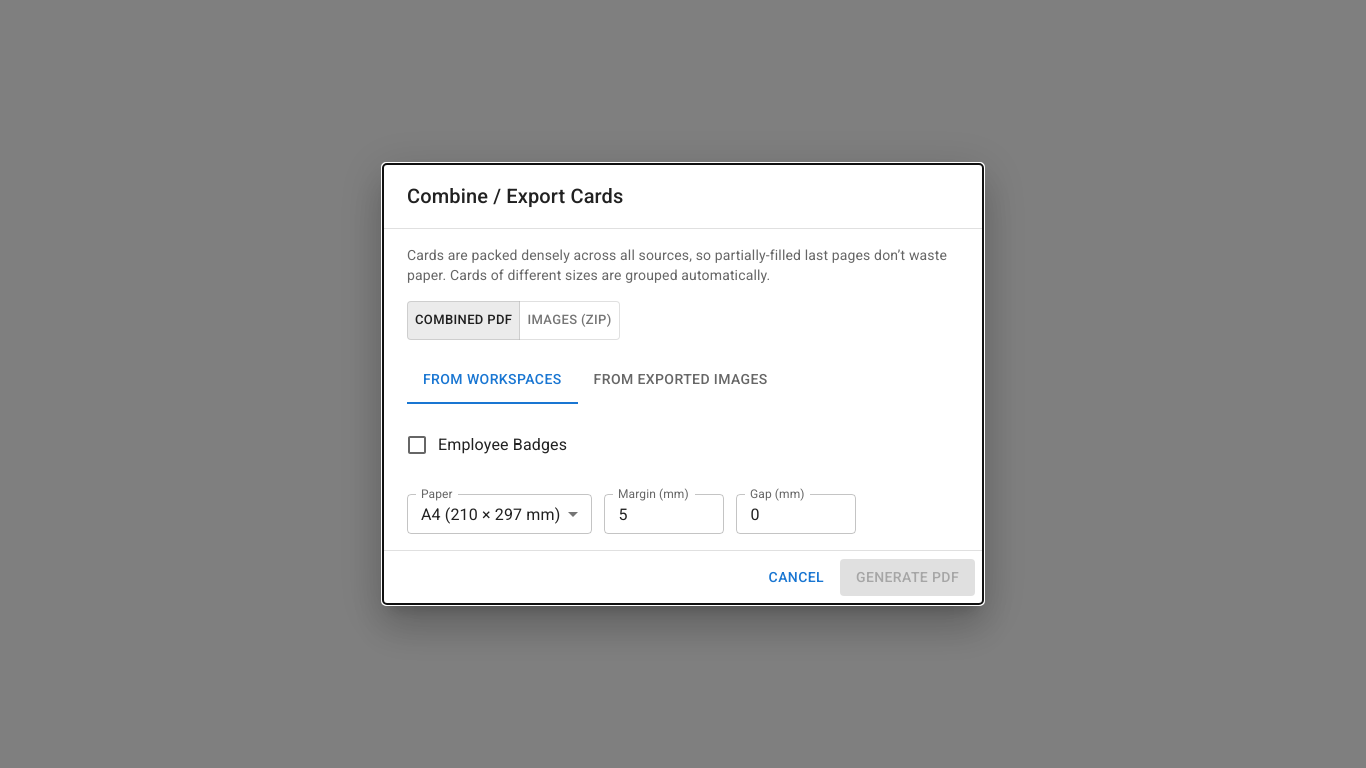
Test: CombinePdfDialog — workspaces tab › lists workspaces and enables Generate PDF once one is selected
Expected: the button "Generate PDF" is disabled, [840,559,975,596]
Click the checkbox labelled "Employee Badges" at (486, 445), box [405,433,567,457]
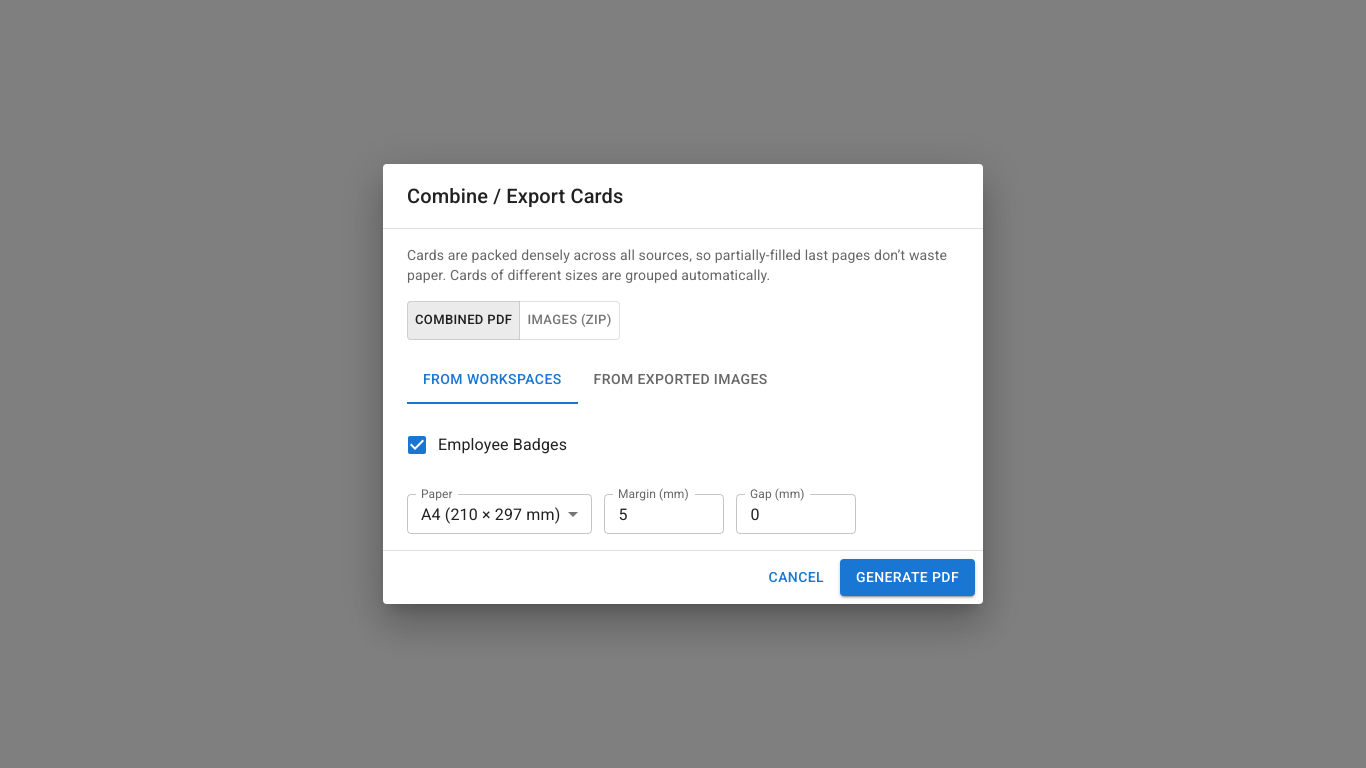
Result: the button "Generate PDF" is enabled at [840,559,975,596]
